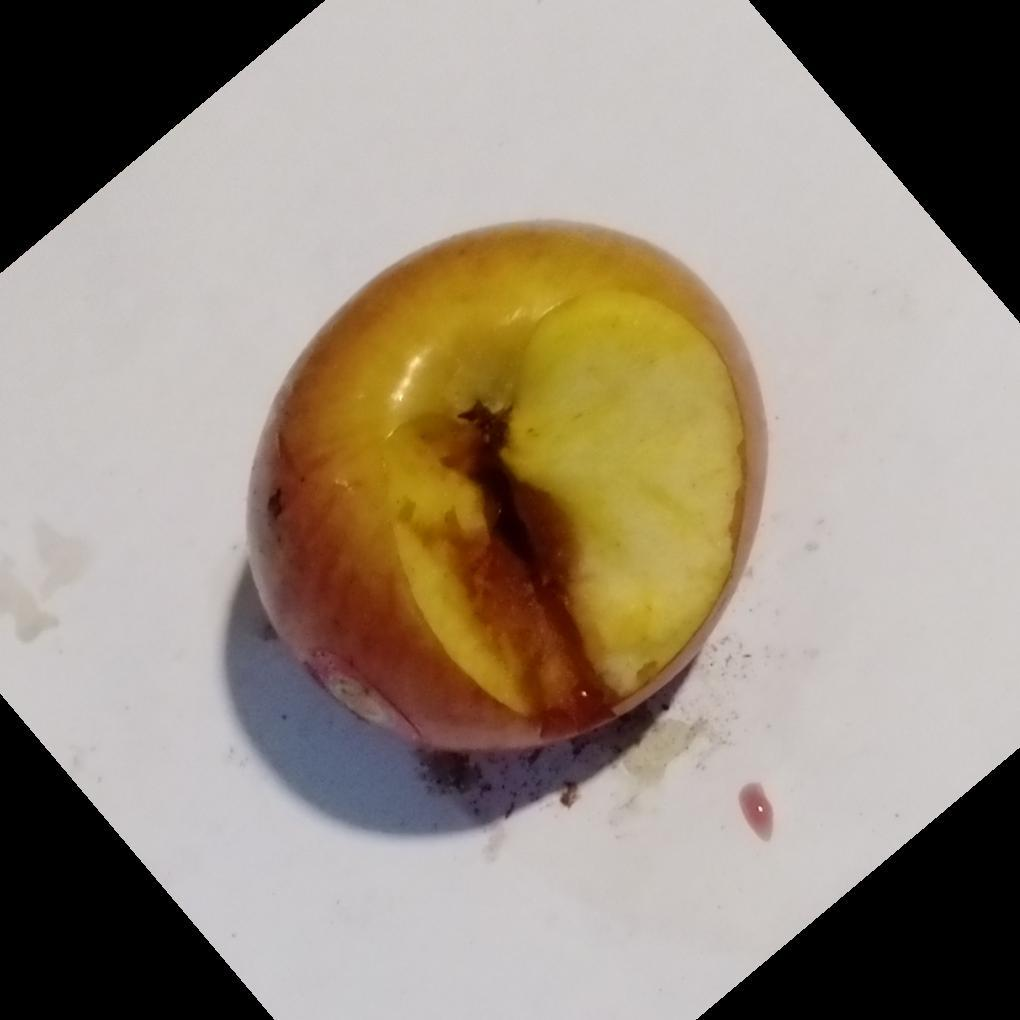FreshOrange: (245, 223, 768, 760)
